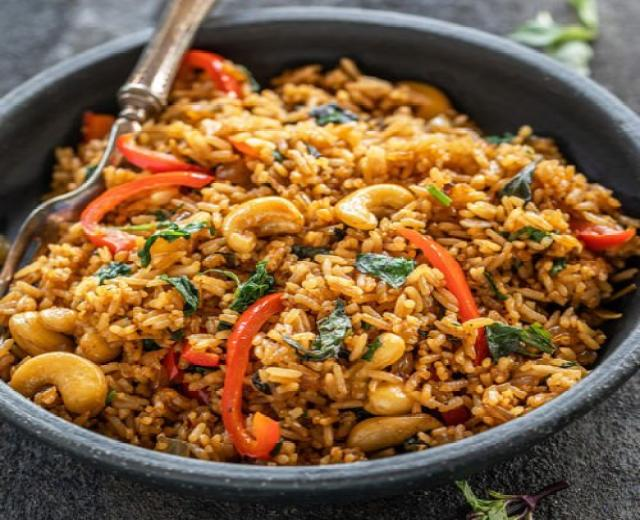fried rice: (1, 6, 635, 504)
